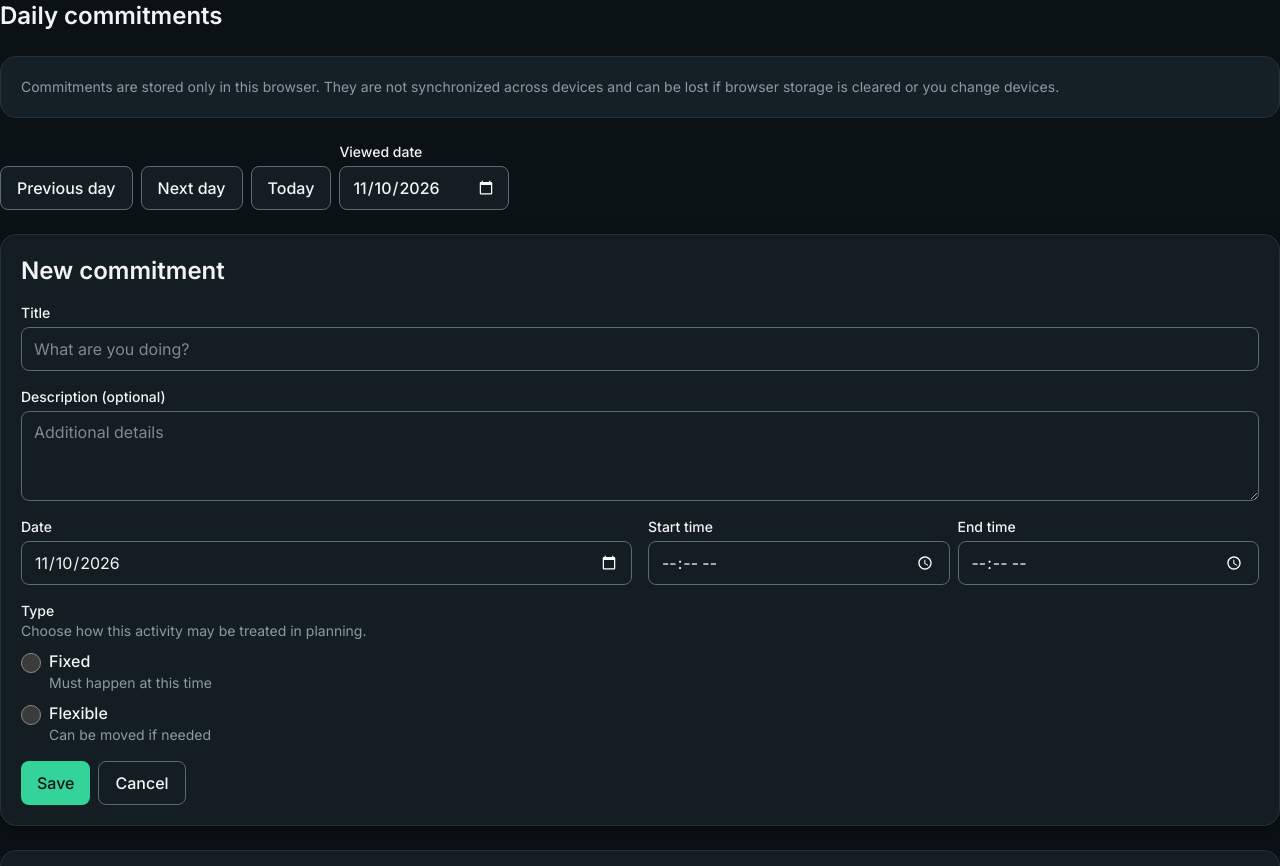
Test: validation UX › shows a summary, preserves values, and revalidates corrected fields
Click the button "Save": [56, 783] box [21, 761, 90, 805]
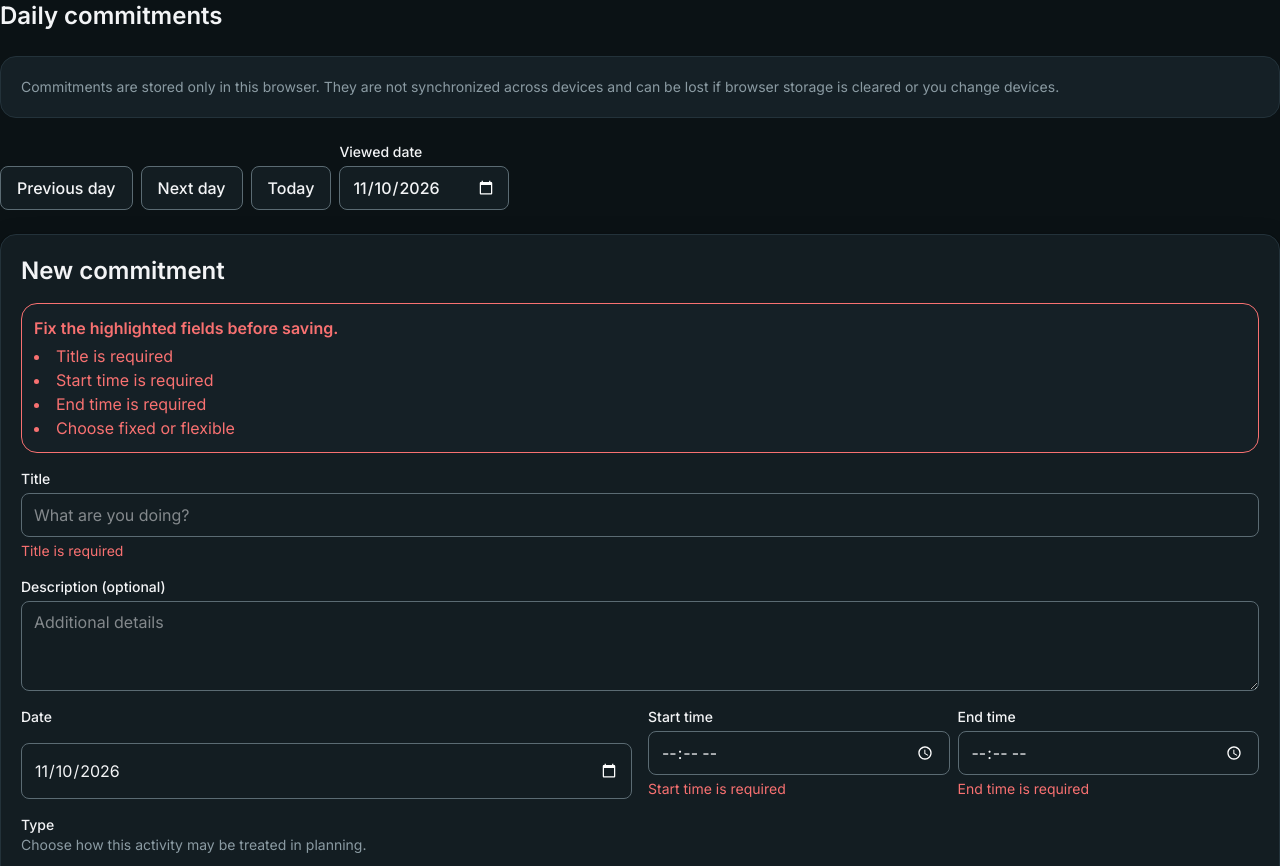
Check: the text "Fix the highlighted fields before saving." is shown, box [34, 318, 338, 338]
Check: the list item "Title is required" is shown, box [56, 346, 173, 366]
Check: the list item "Choose fixed or flexible" is shown, box [56, 418, 235, 438]
In the field labelled "Title": [640, 515] box [21, 493, 1259, 537], type "Now valid"
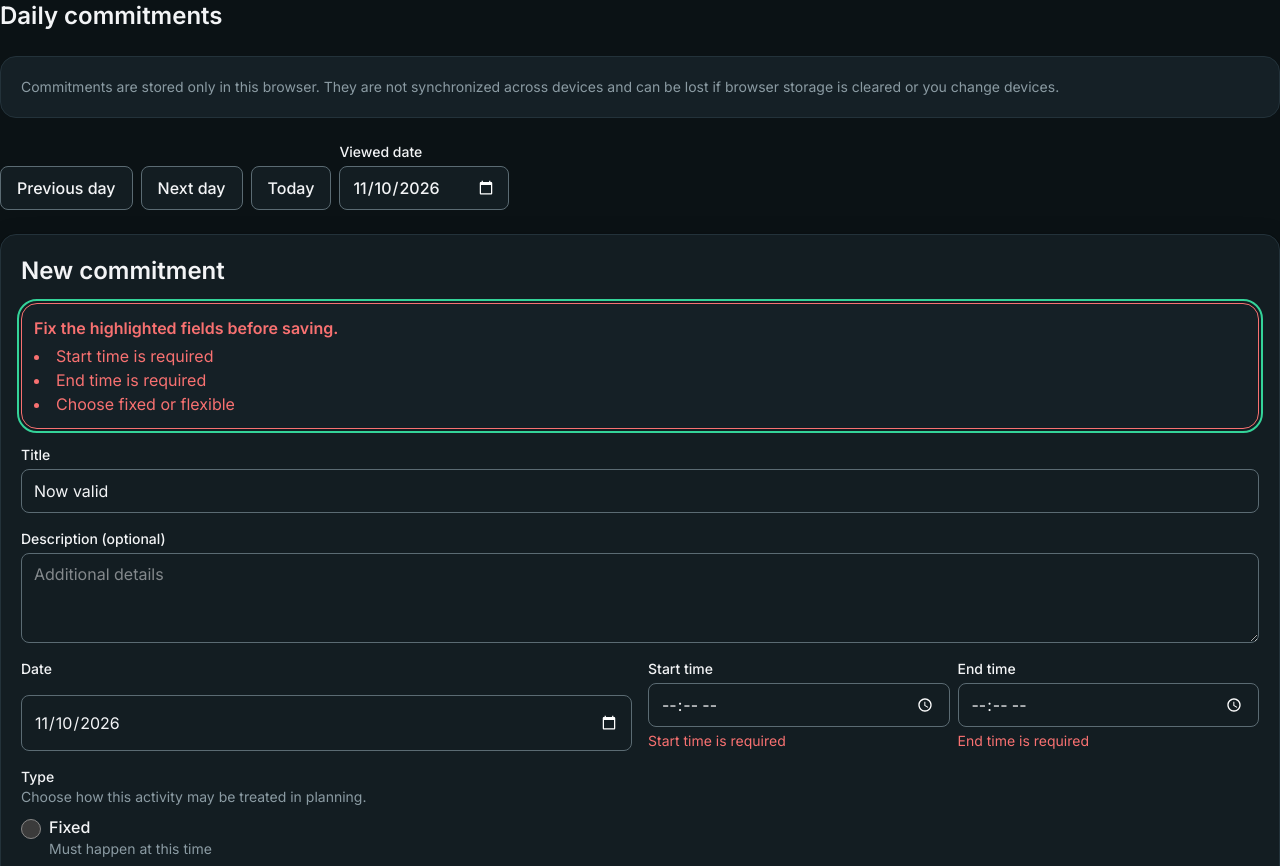
Check: the list item "Title is required" is gone
